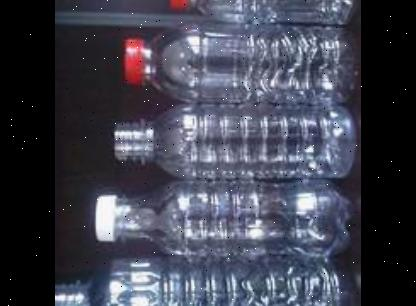Plastic Bottle: (90, 176, 360, 262), (102, 98, 357, 180), (56, 240, 357, 306), (124, 18, 358, 102), (168, 0, 360, 25)
